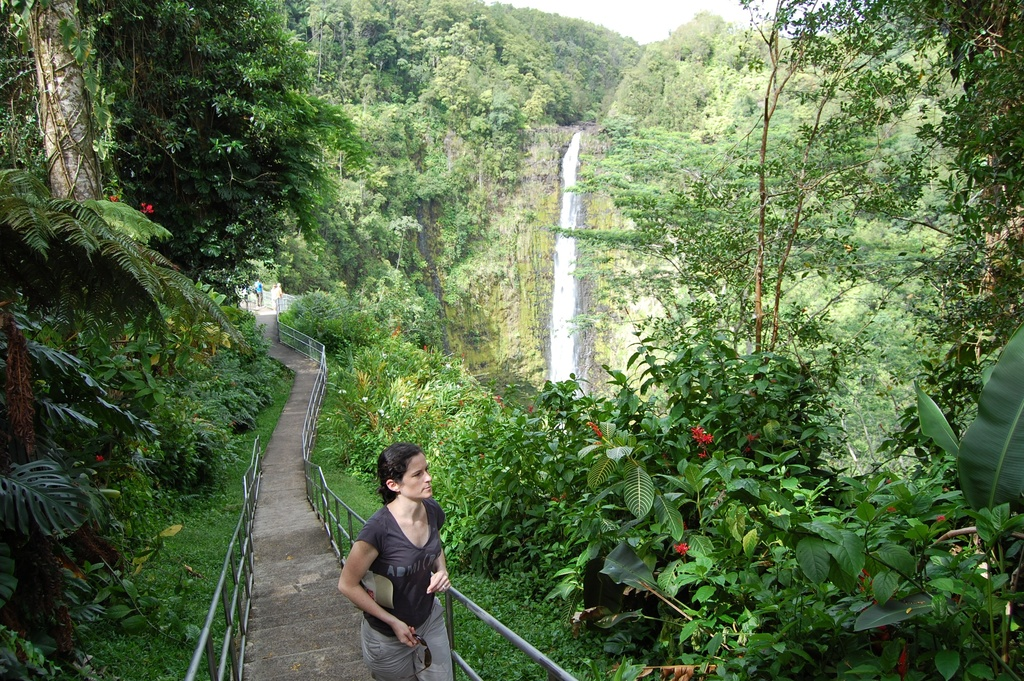Tree: (0, 0, 1023, 680), (7, 114, 273, 643)
